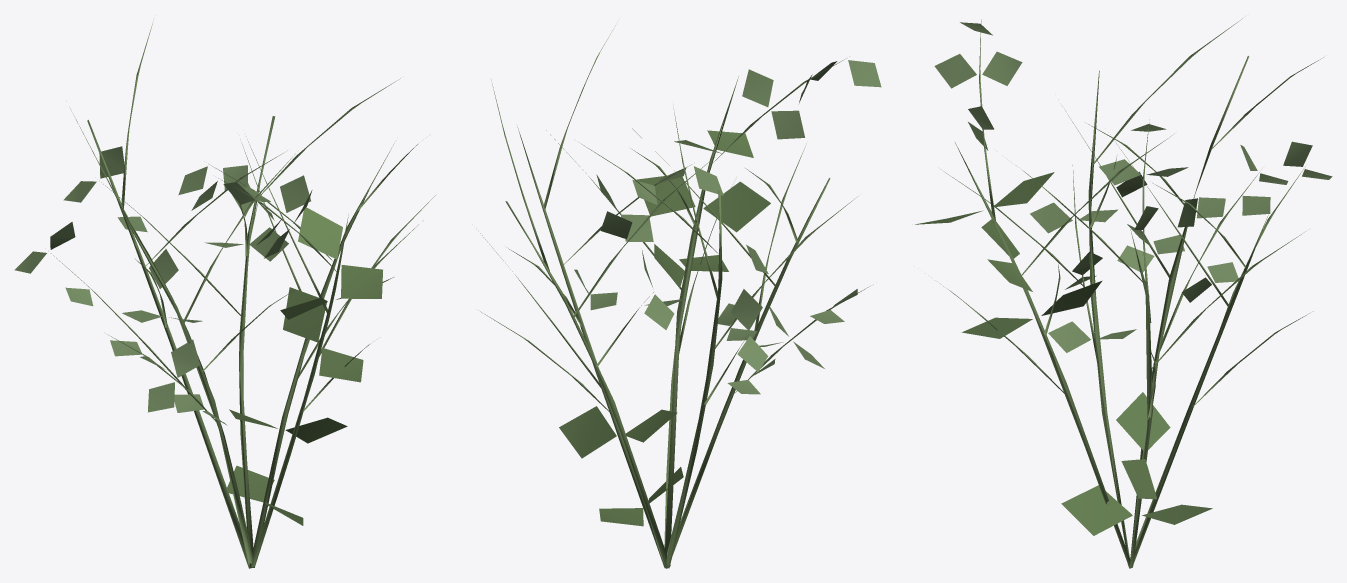
File: Nepita_0_Niveau2.fbx
3 views of the same model, side by side, from view 1: azimuth 30°, elevation 25°; view 2: azimuth 150°, elevation 25°; view 3: azimuth 270°, elevation 25° (orthographic). The views are drawn at different scales.
Parts seen in each view (by area): view 1: Nepita_0_Niveau2; view 2: Nepita_0_Niveau2; view 3: Nepita_0_Niveau2.
Part boxes in pixels (bbox=[...]): Nepita_0_Niveau2: bbox=[14, 19, 435, 568]; Nepita_0_Niveau2: bbox=[480, 25, 881, 568]; Nepita_0_Niveau2: bbox=[915, 18, 1332, 568].
Bounding box in the file's own units: 19.7 × 25.48 × 19.06.
